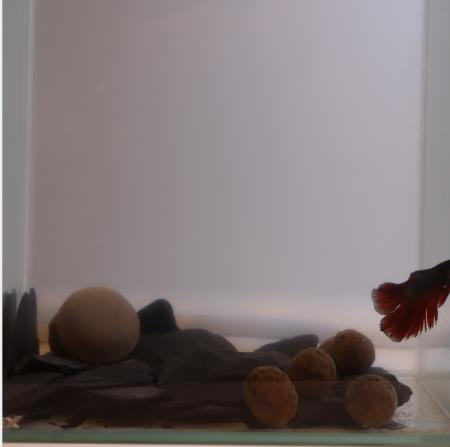fish: (366, 255, 449, 345)
